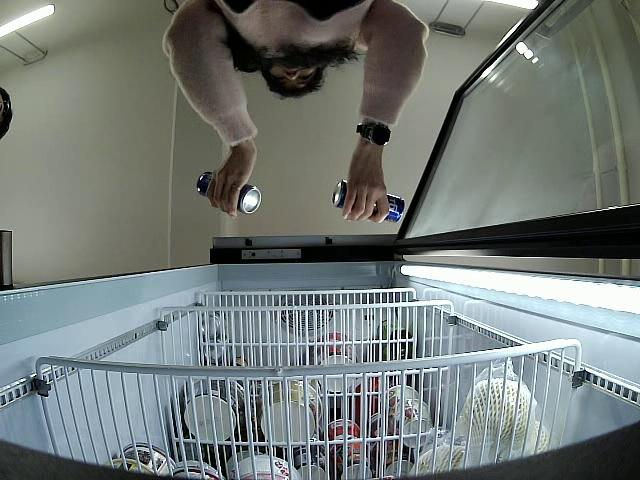00_hand: (204, 150, 257, 219), (342, 154, 391, 223)
16_hot6: (333, 181, 405, 223), (194, 171, 261, 216)
